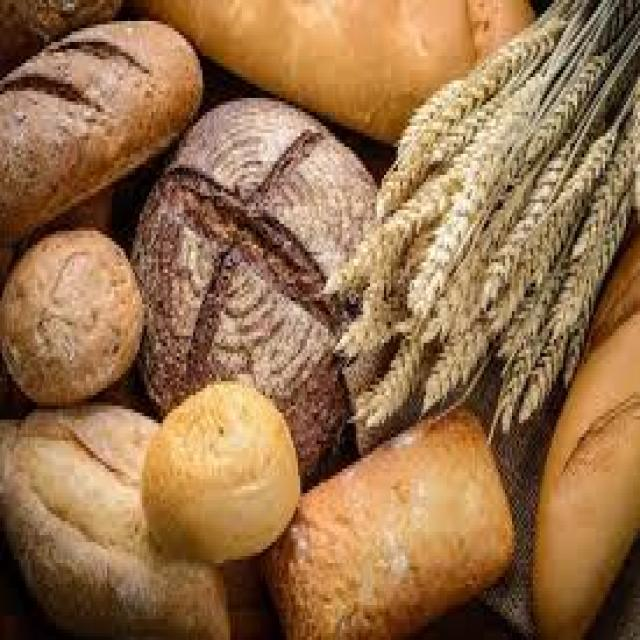organic waste: (316, 0, 638, 434), (128, 88, 377, 476), (261, 402, 512, 637), (128, 0, 540, 143), (0, 398, 230, 636), (510, 210, 638, 636), (0, 18, 200, 228), (137, 374, 300, 567), (0, 220, 137, 405)
